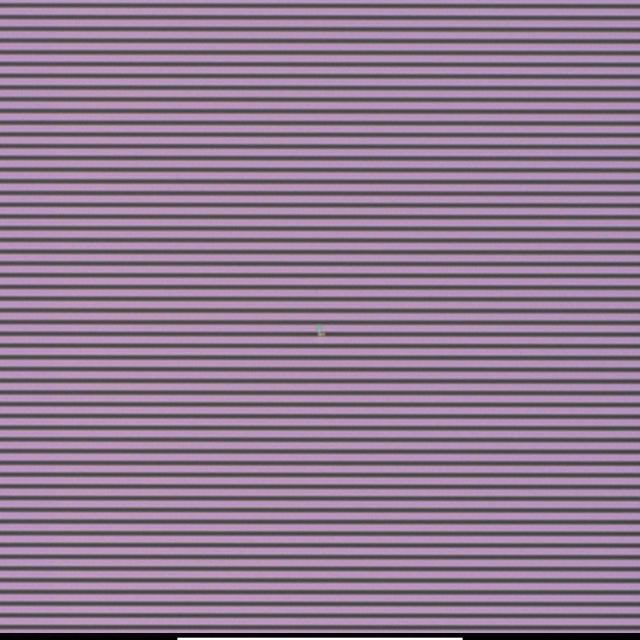03_intrusion: (310, 323, 333, 345)
